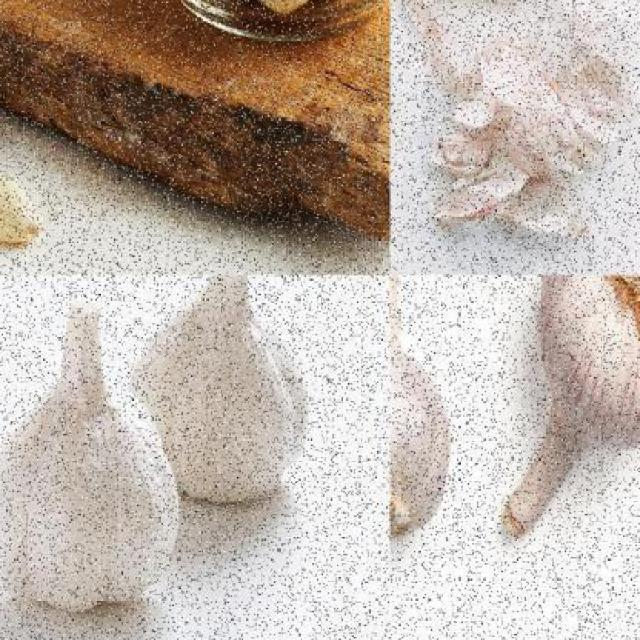garlic: (0, 296, 185, 619), (124, 274, 312, 508), (499, 274, 639, 544), (390, 274, 455, 544), (1, 172, 41, 246)
